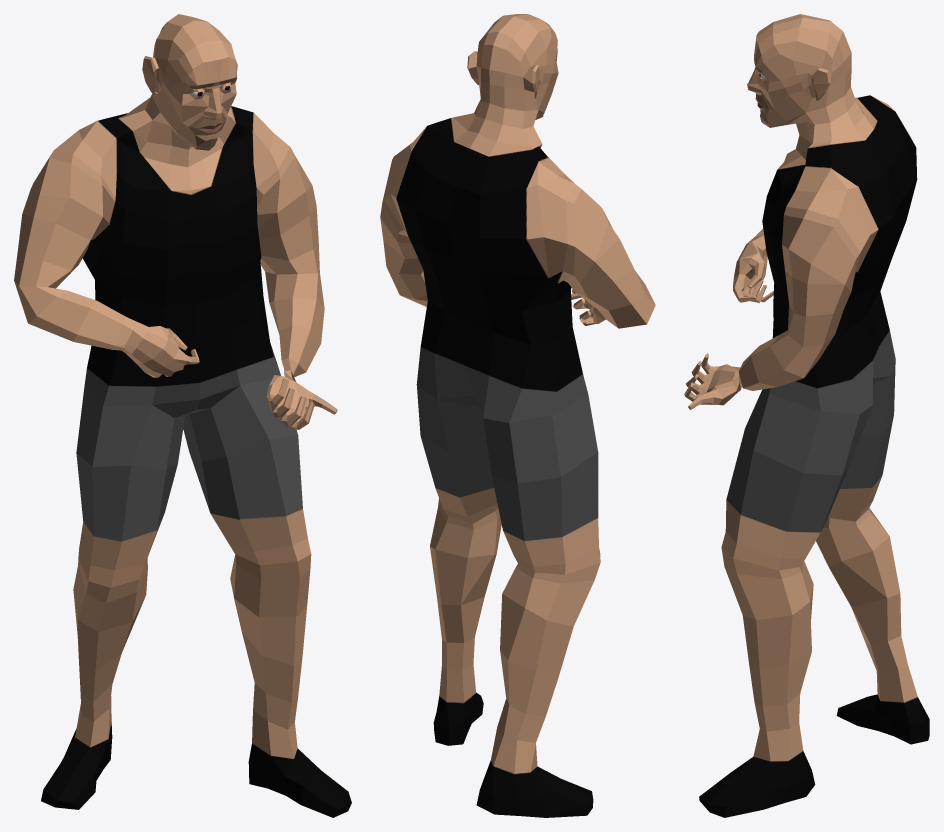
The model's file is PlayerIdle(202).obj.
3 views of the same model, side by side, from view 1: azimuth 30°, elevation 25°; view 2: azimuth 150°, elevation 25°; view 3: azimuth 270°, elevation 25° (orthographic). The views are drawn at different scales.
Parts seen in each view (by area): view 1: Plane002; view 2: Plane002; view 3: Plane002.
Part boxes in pixels (x1=…): Plane002: x1=14, y1=14, x2=351, y2=817; Plane002: x1=380, y1=14, x2=655, y2=817; Plane002: x1=684, y1=14, x2=929, y2=817.
Size of the model in its own units: 682 by 1797 by 536.
